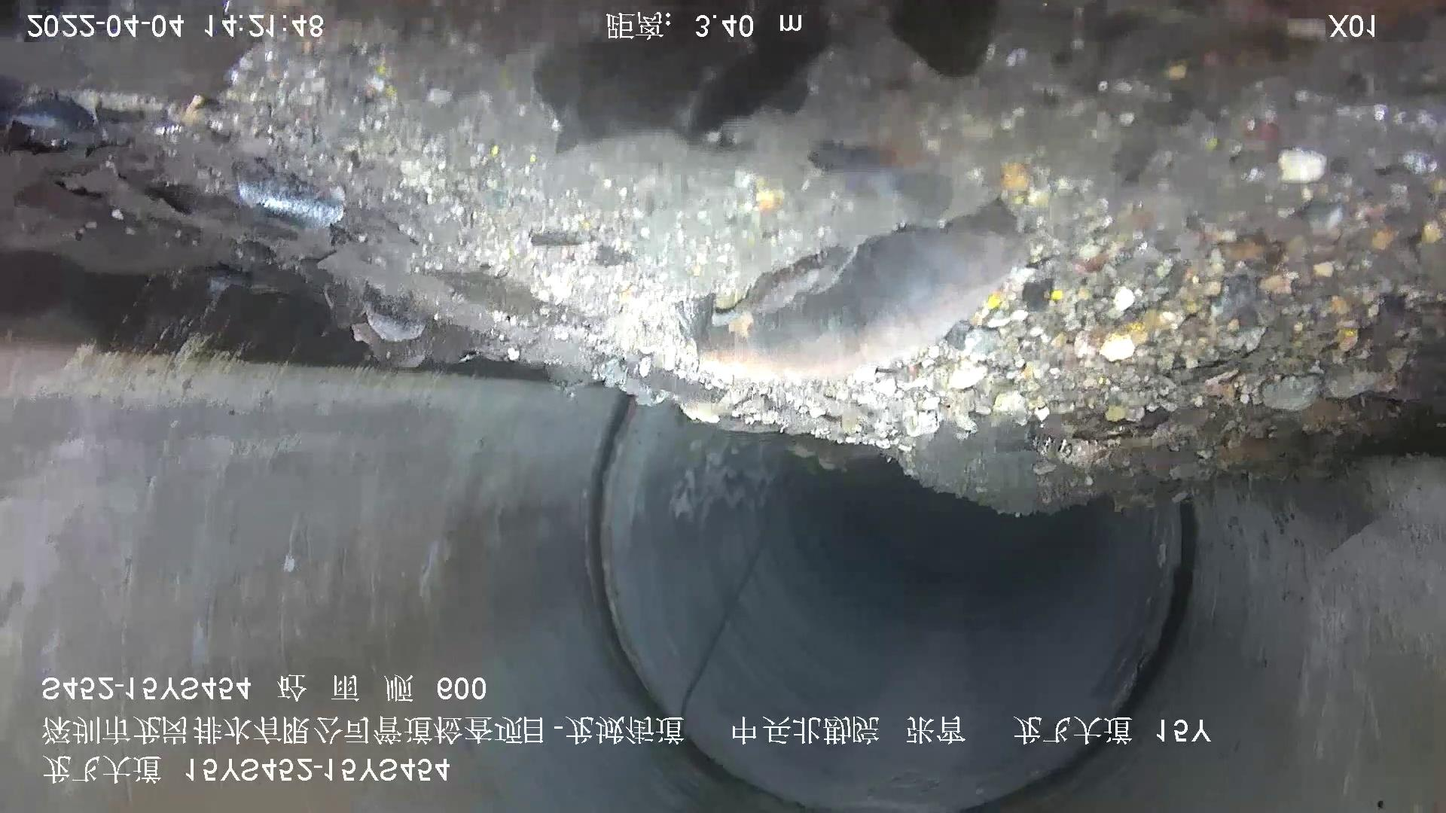CJ: (909, 345, 918, 352)
